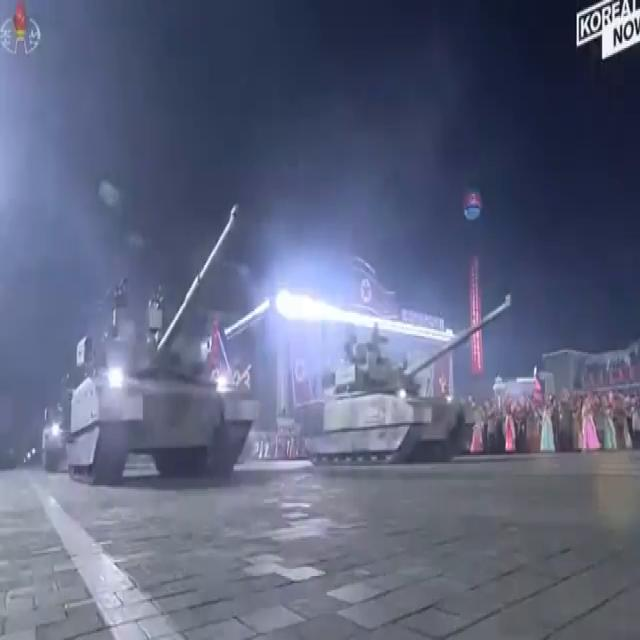north tank: (28, 184, 264, 506), (290, 289, 524, 488)
